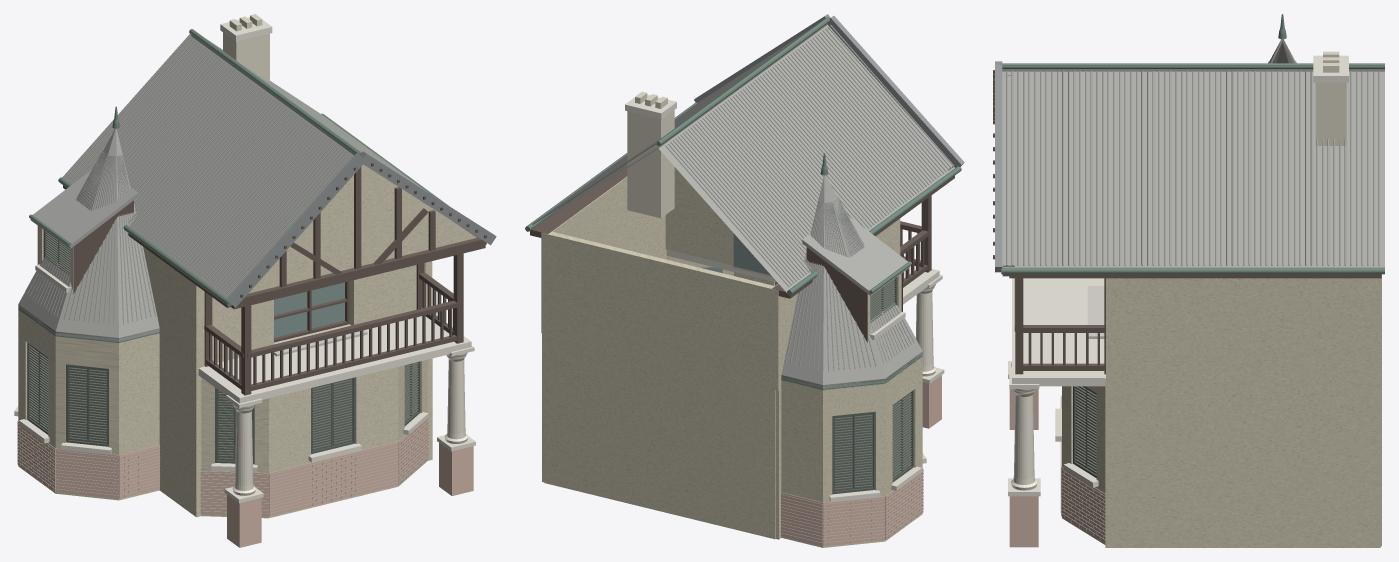
File: jingan-soong-family-residence-east-gable-web.glb
The picture shows the model from 3 angles, left to right: view 1: azimuth 30°, elevation 25°; view 2: azimuth 150°, elevation 25°; view 3: azimuth 270°, elevation 25°; orthographic projection. The views are drawn at different scales.
Visible parts, largest first — view 1: 宋氏花园住宅主楼东山墙与南园折角窗; view 2: 宋氏花园住宅主楼东山墙与南园折角窗; view 3: 宋氏花园住宅主楼东山墙与南园折角窗.
Boxes of the visible parts, x1,y1,x2,y2 form: 宋氏花园住宅主楼东山墙与南园折角窗: (14,14,496,547); 宋氏花园住宅主楼东山墙与南园折角窗: (525,14,964,547); 宋氏花园住宅主楼东山墙与南园折角窗: (993,14,1384,547).
Size of the model in its own units: 9.31 by 10.22 by 8.23.
15 materials, 1 textured.
